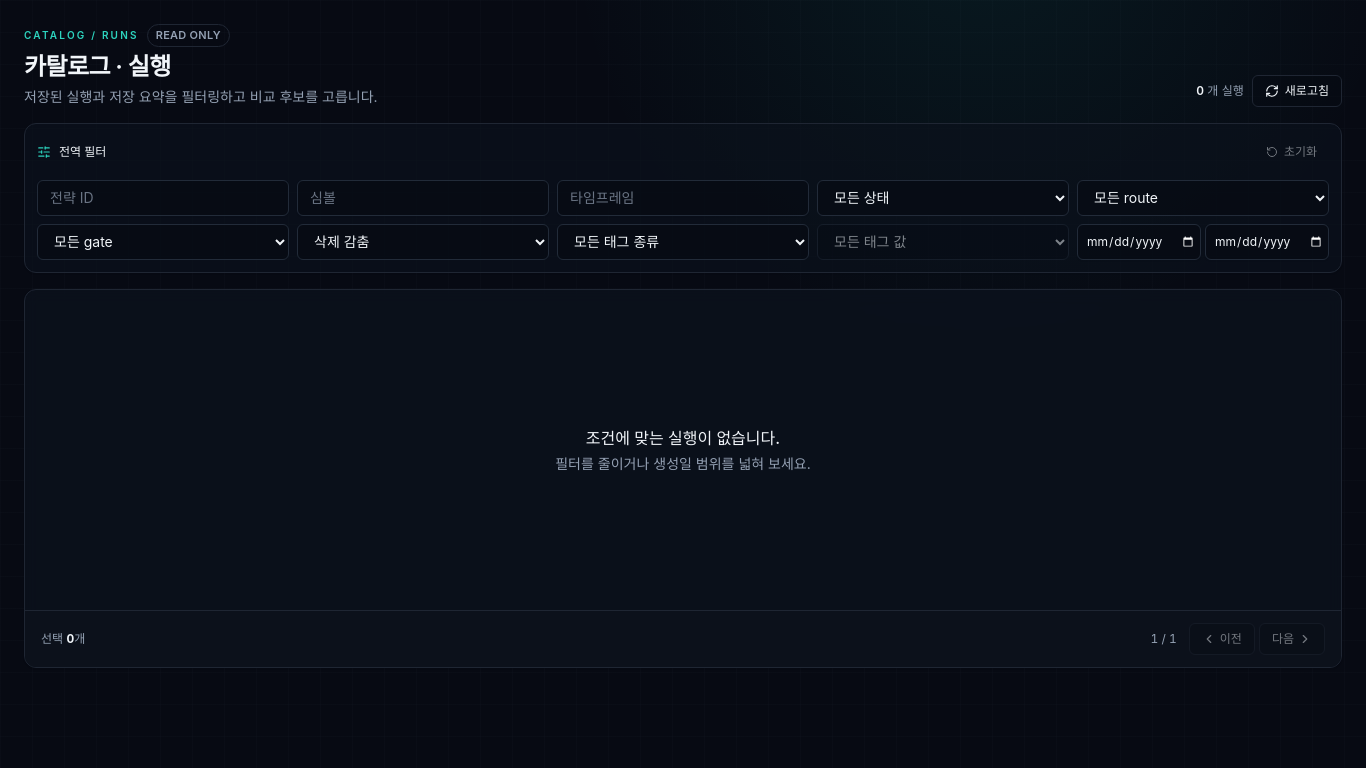
Test: 카탈로그 실행 완전 삭제 › 이미 삭제 표시된 실행도 골라 완전 삭제할 수 있다
Select "삭제만 보기" in the dropdown named "삭제 표시 필터" at x=423, y=242, box [297,224,549,260]
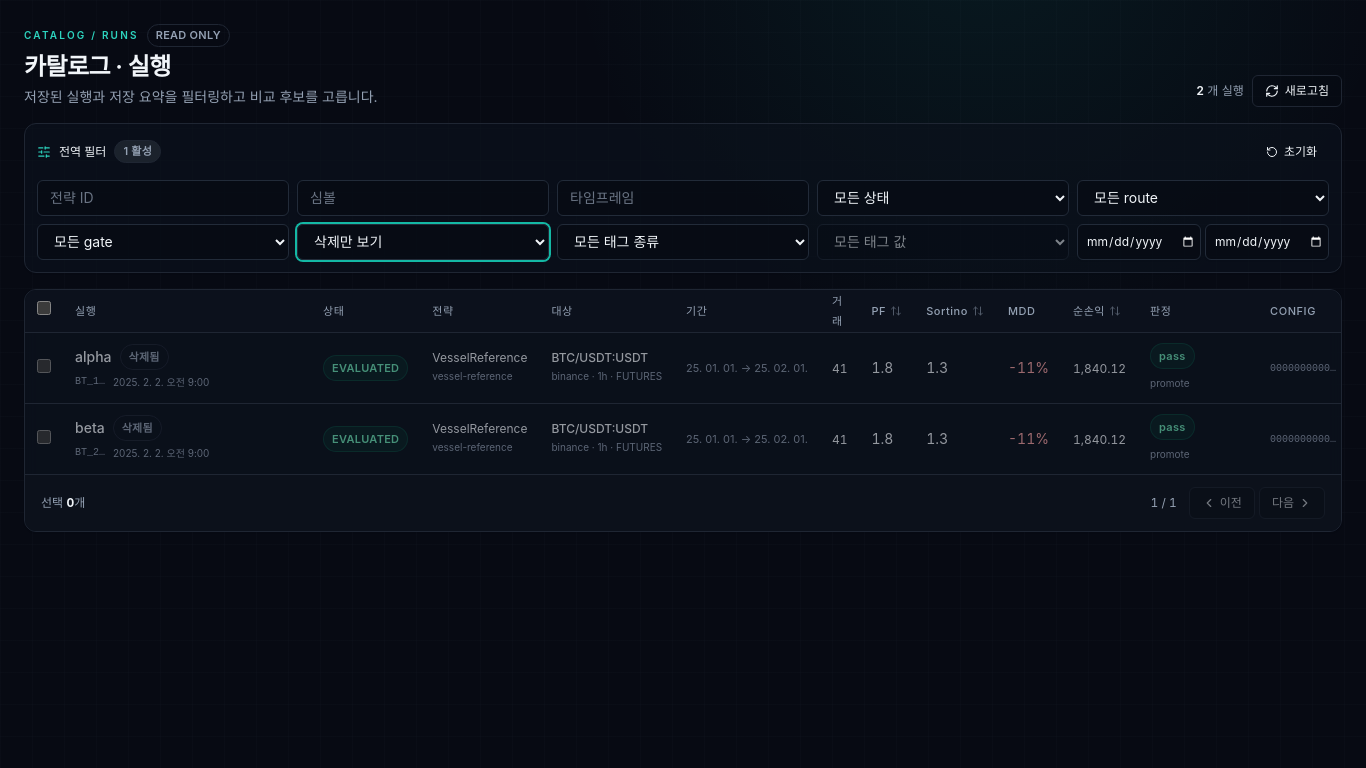
Expected: the text "alpha" is shown, [75,346,112,366]
Click the checkbox named "alpha 선택" at x=44, y=366, box [37,358,51,372]
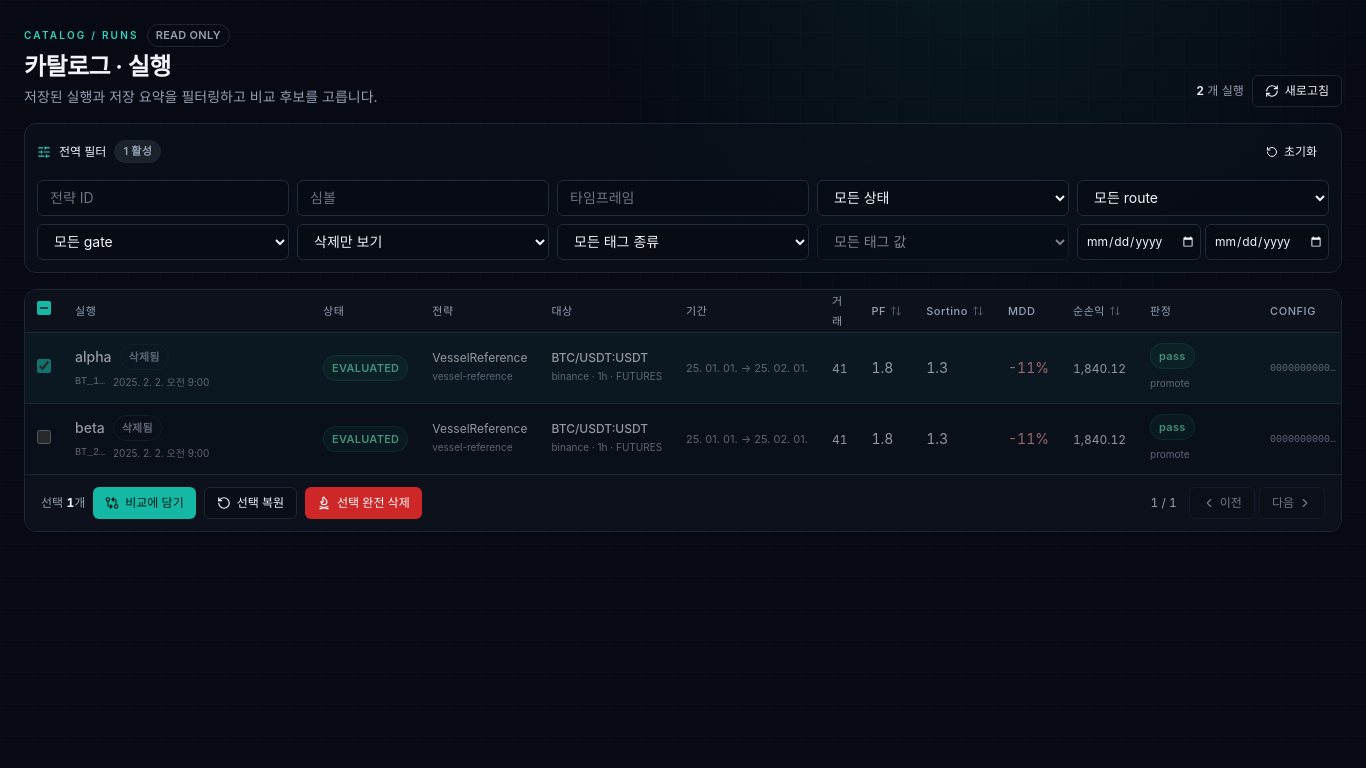
Click the checkbox named "beta 선택" at x=44, y=436, box [37,430,51,444]
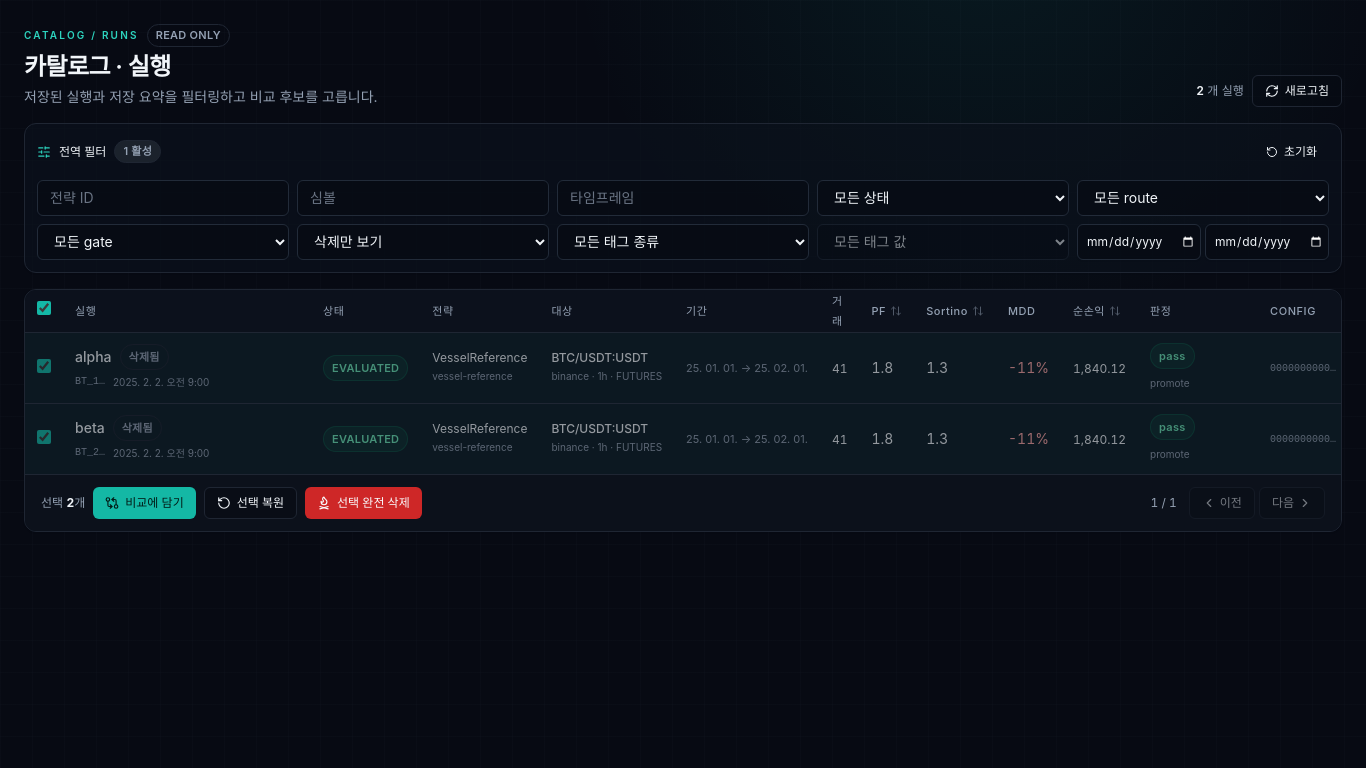
Click the button "선택 완전 삭제" at x=363, y=502, box [305,486,422,518]
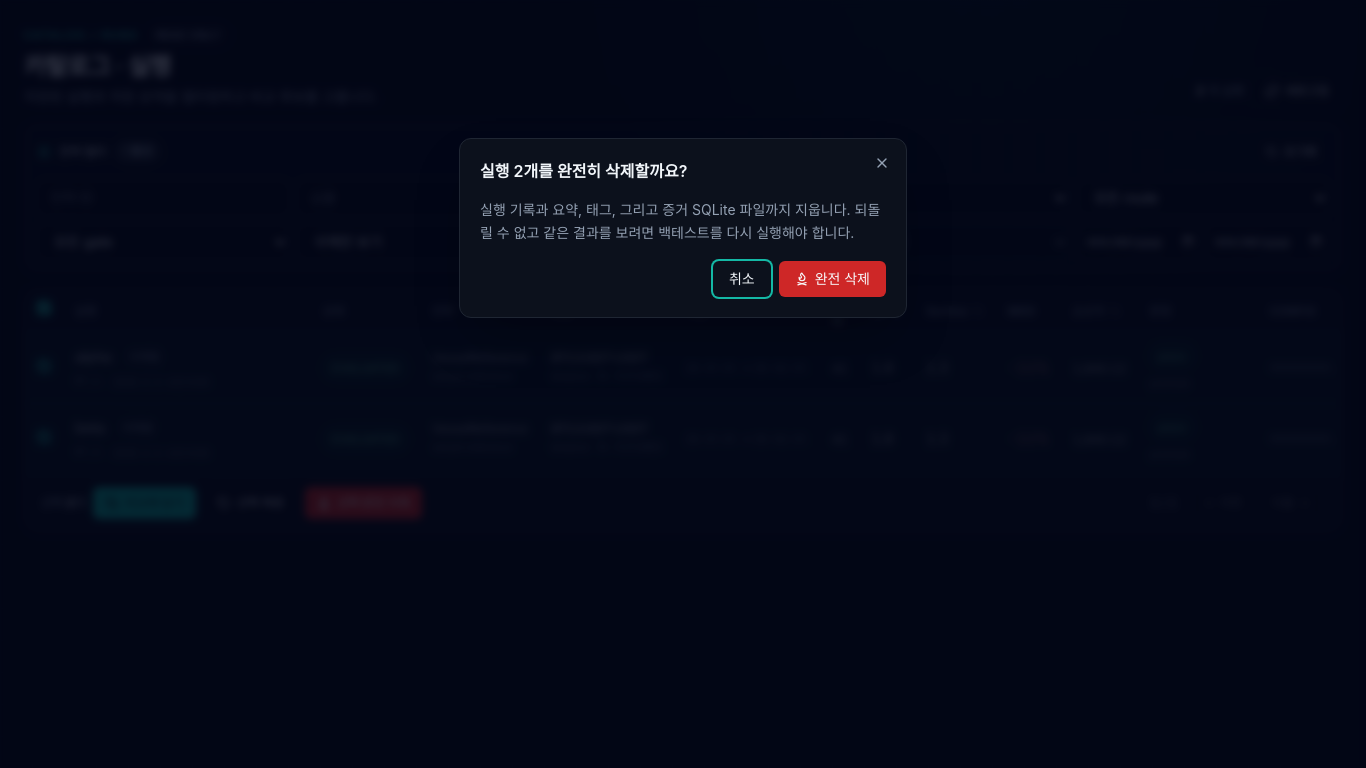
Expected: the heading "실행 2개를 완전히 삭제할까요?" is shown, [480,161,687,181]
Click the button "완전 삭제" at x=832, y=279, box [779,261,886,297]
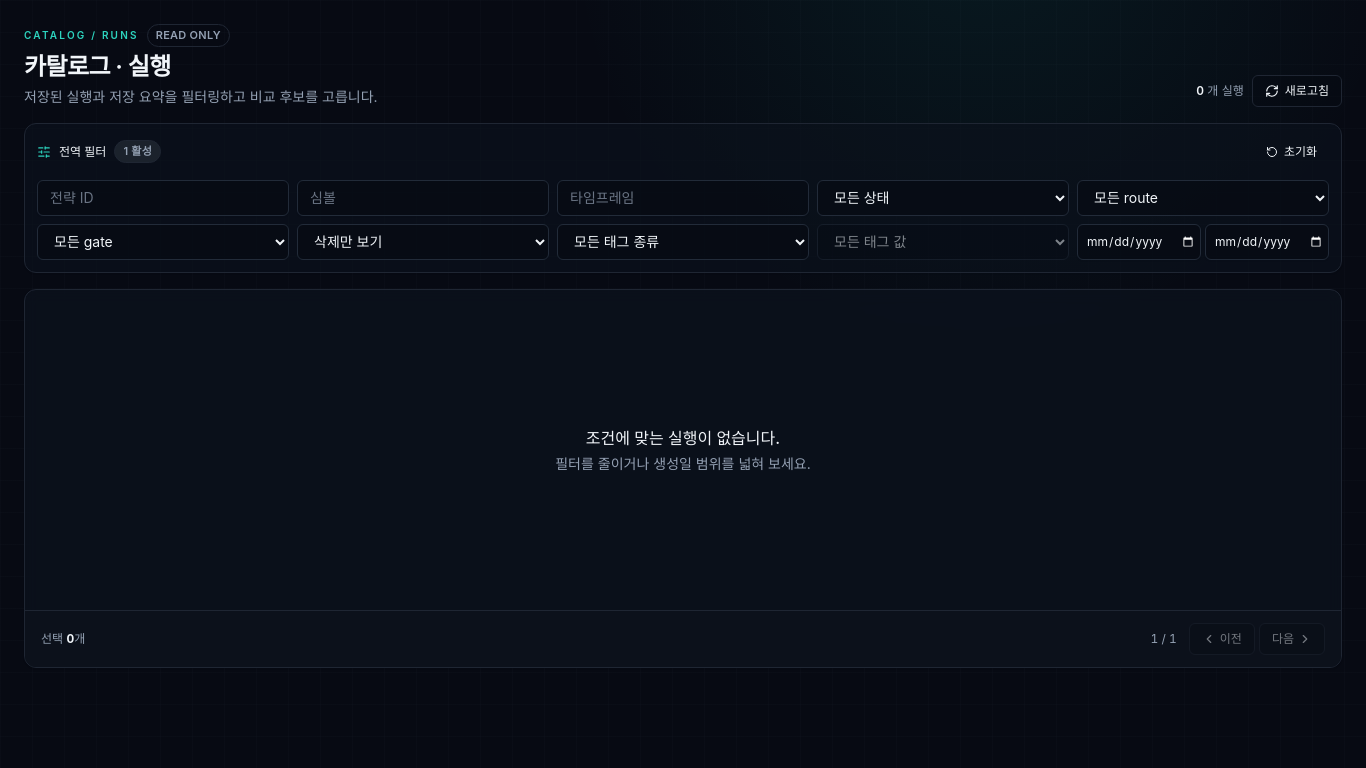
Expected: the text "조건에 맞는 실행이 없습니다." is shown, [586,428,780,448]
